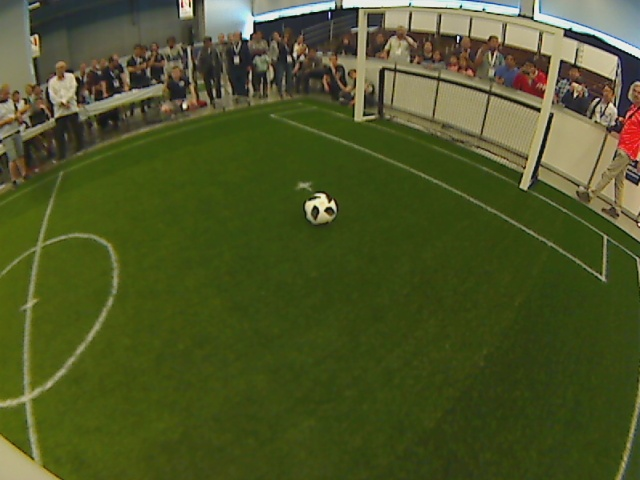ball: (302, 191, 339, 225)
